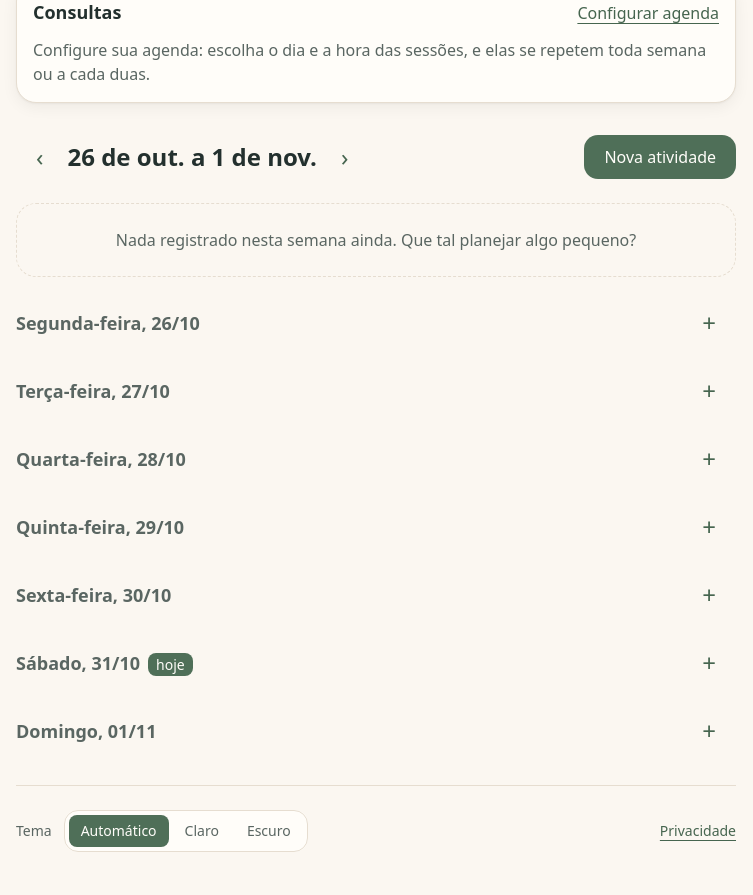
Test: /privacidade › a tela de entrar e o rodapé do app levam ao aviso
(page scrolled)
Click the link "Privacidade".
click(698, 831)  # box [660,821,736,841]
(page scrolled)
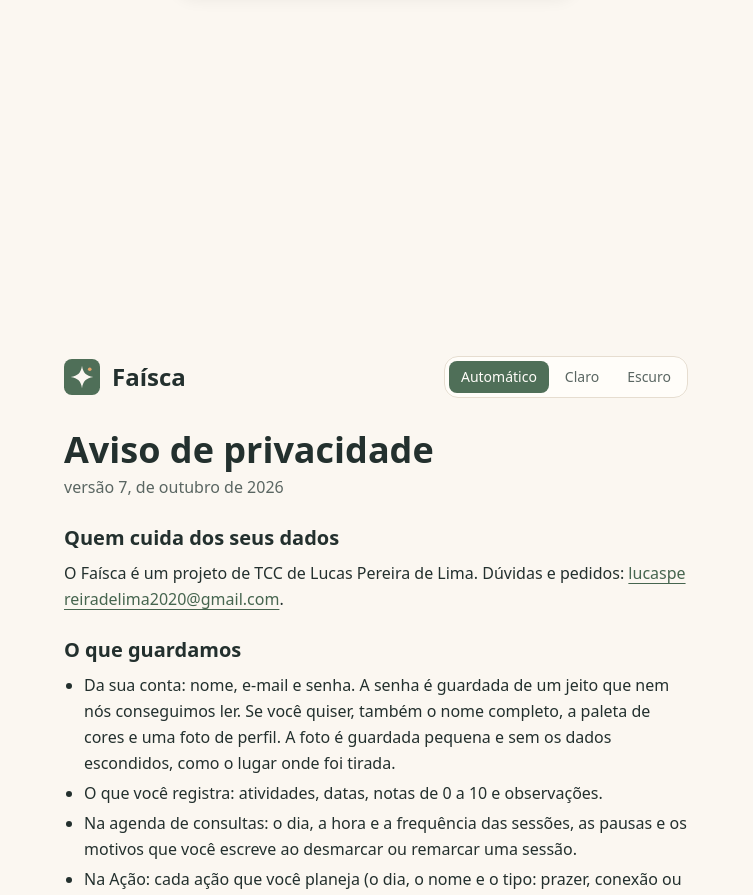
Expected: the heading "Aviso de privacidade" is shown, [64,425,434,474]
